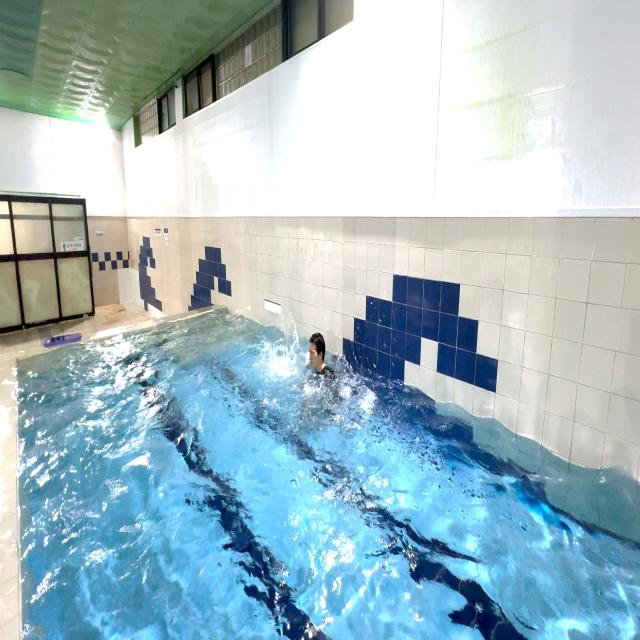Swimming: (262, 319, 358, 413)
